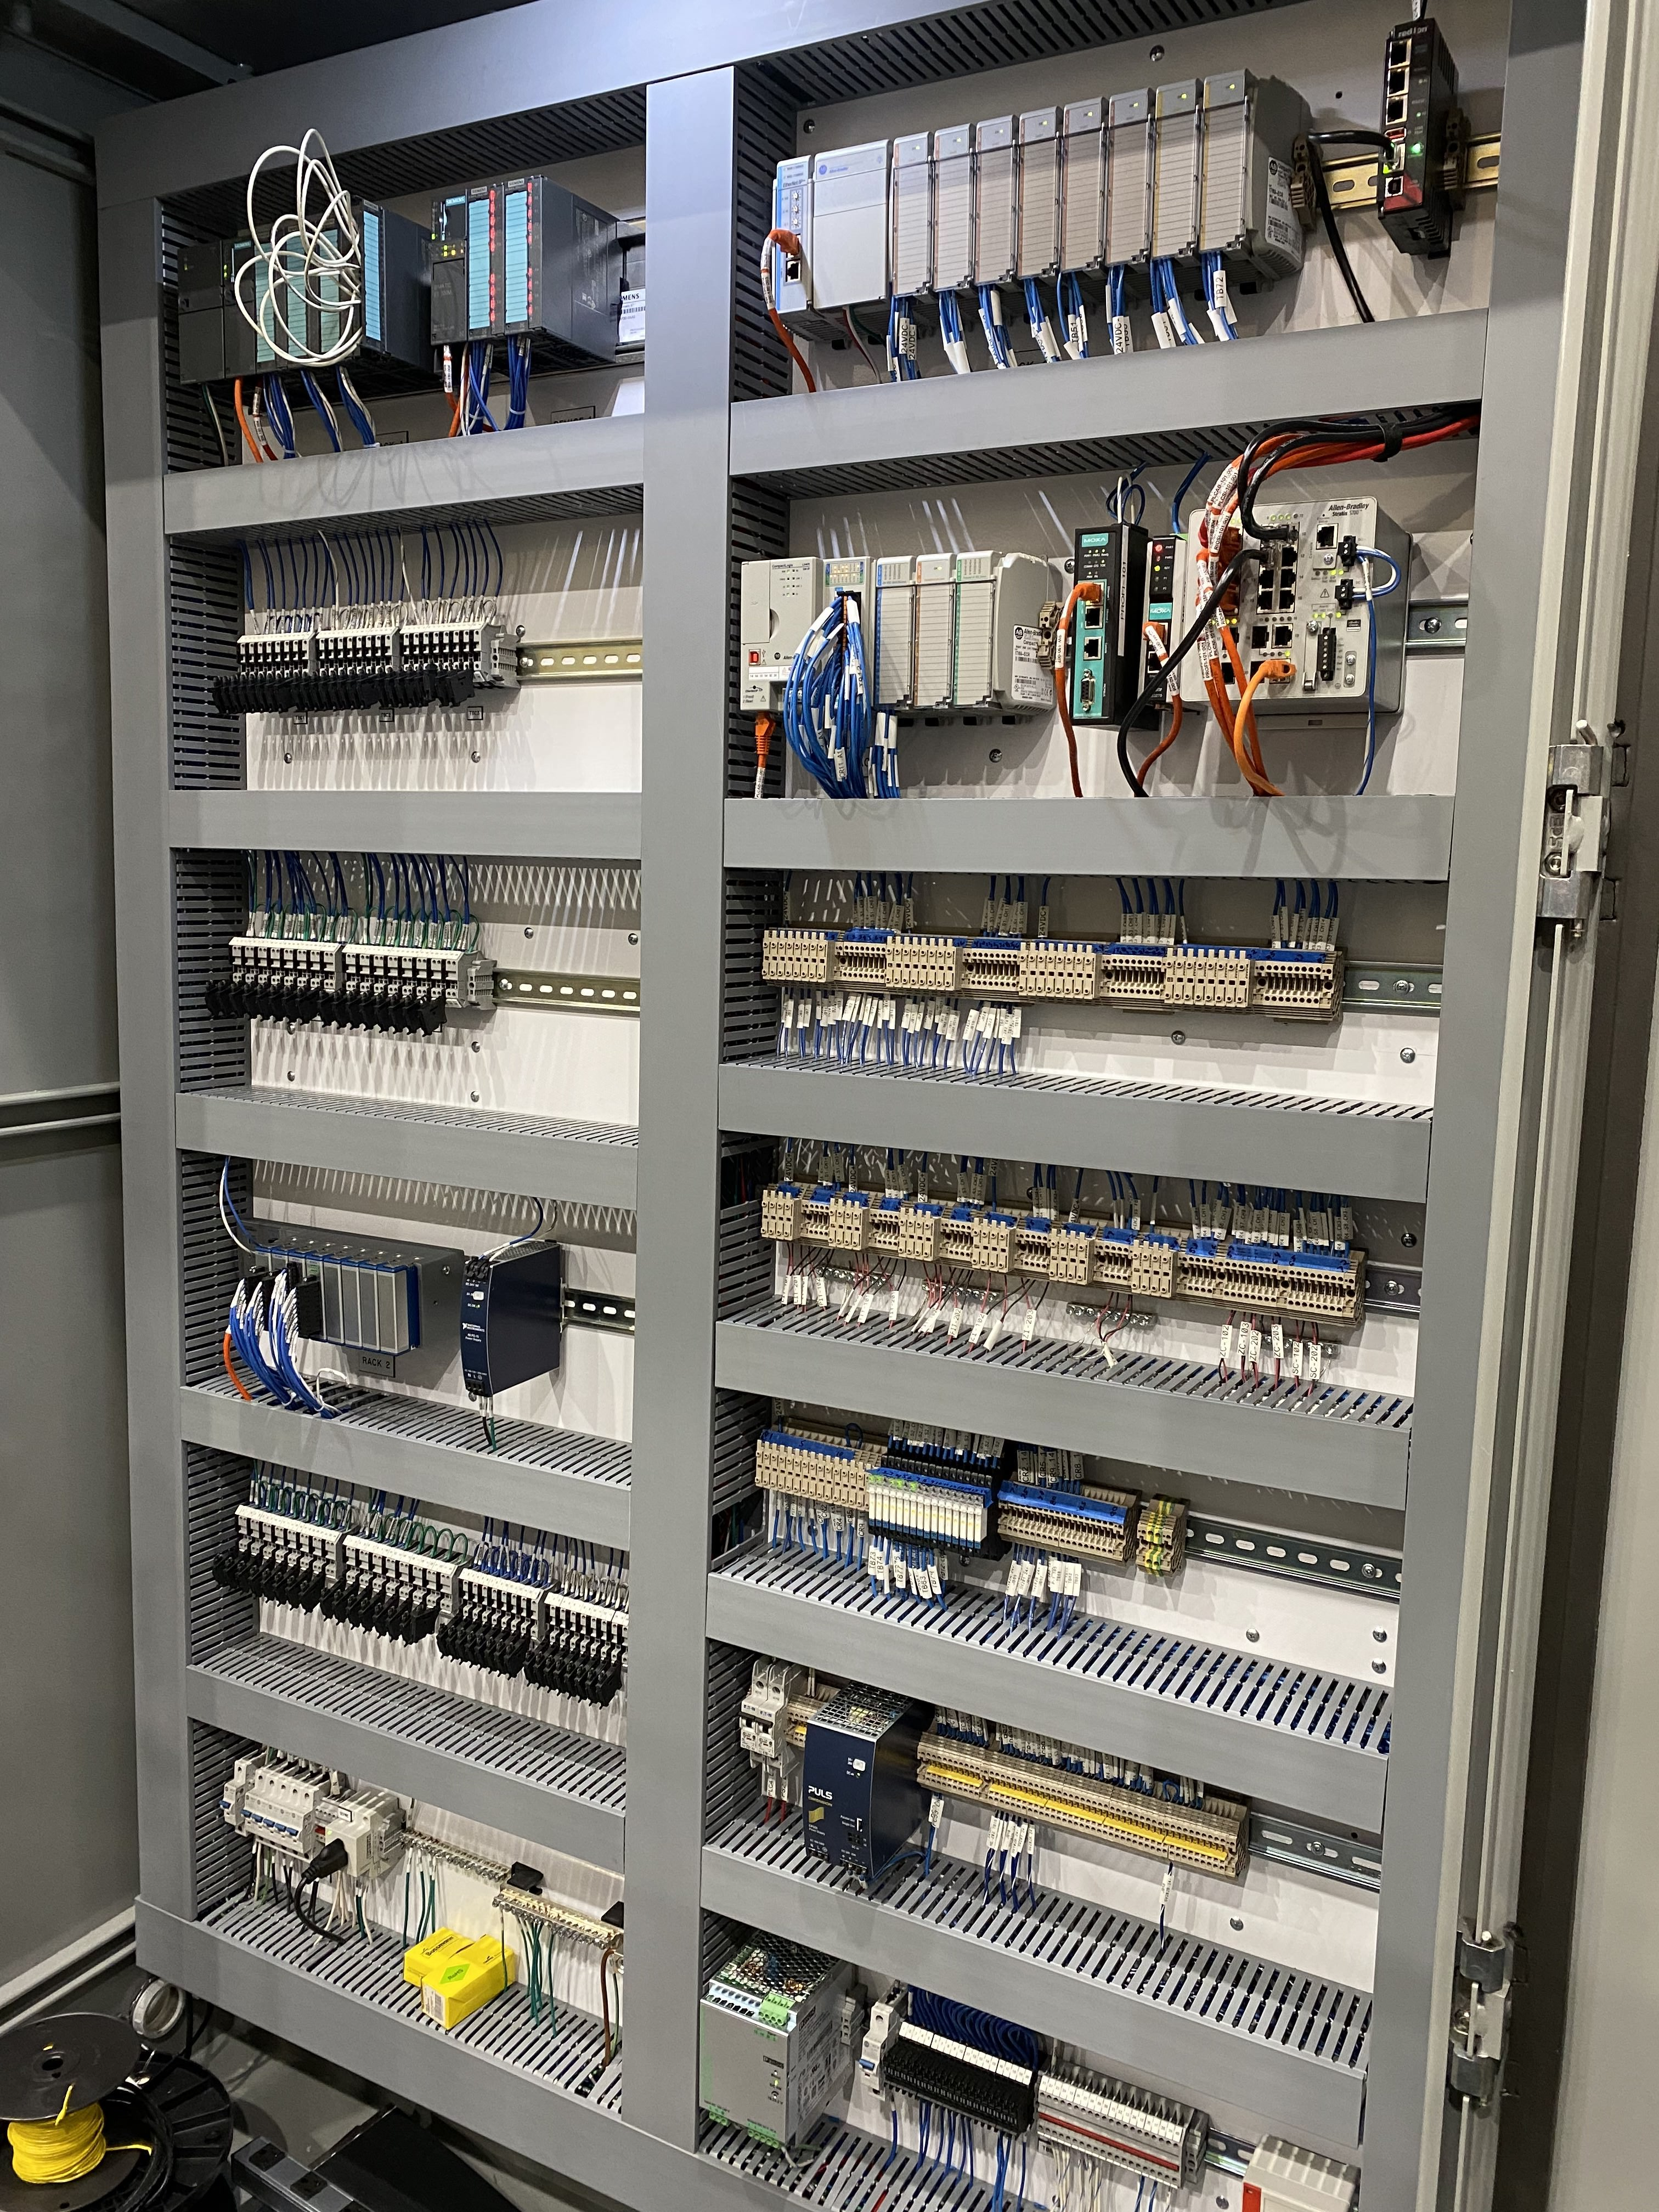AllenBradley: (737, 552, 823, 718)
Siemens: (220, 230, 258, 381)
